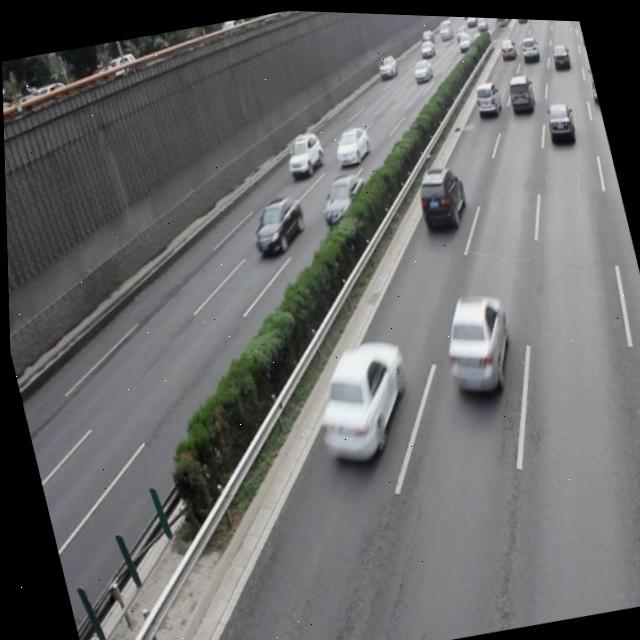car: (297, 329, 419, 469), (430, 282, 518, 398), (241, 187, 310, 256), (408, 157, 469, 230), (312, 165, 372, 228), (279, 126, 326, 179), (329, 119, 373, 166), (540, 95, 575, 141)
